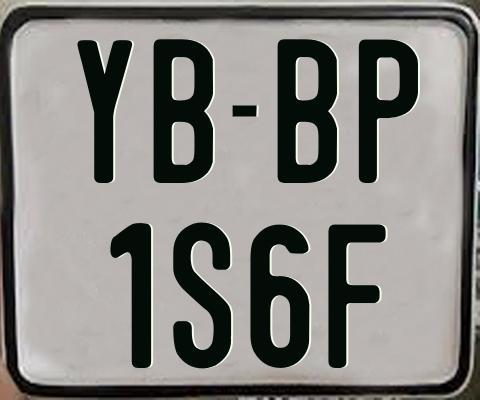1: (107, 221, 153, 367)
6: (249, 224, 309, 374)
B: (274, 38, 338, 185), (151, 36, 212, 182)
F: (328, 223, 388, 368)
P: (359, 39, 419, 183)
S: (173, 221, 232, 373)
Y: (75, 38, 133, 181)
